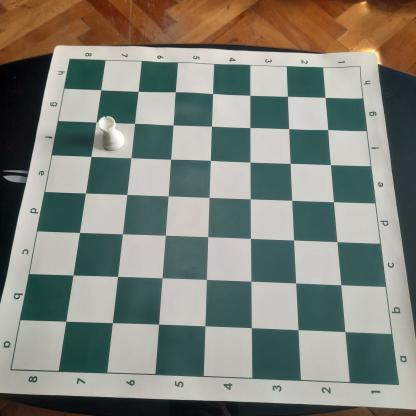white-rook: (96, 115, 128, 152)
